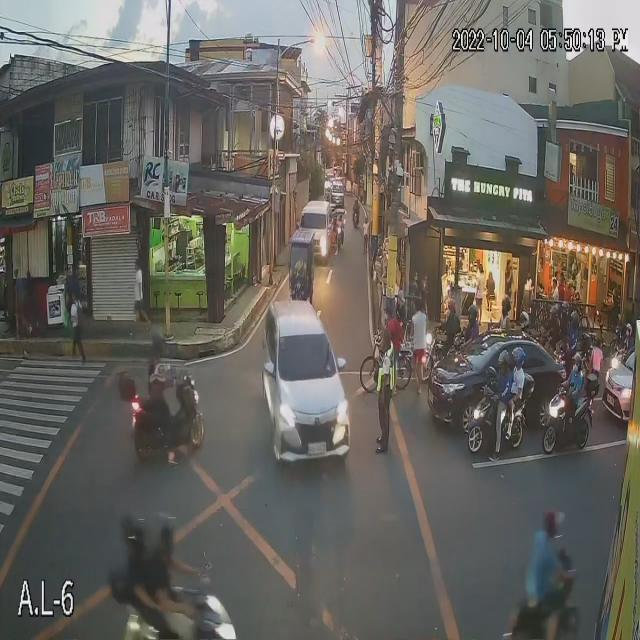helmet: (147, 511, 182, 551), (117, 512, 150, 551), (149, 328, 173, 361), (497, 350, 512, 379), (511, 343, 526, 368), (559, 300, 571, 325), (498, 297, 512, 317), (463, 305, 478, 323), (547, 306, 562, 323), (445, 299, 459, 317), (518, 310, 532, 328), (569, 310, 581, 329), (572, 353, 582, 375), (623, 322, 634, 340)
motorcycle: (119, 373, 204, 462), (118, 584, 240, 640), (466, 383, 532, 461), (539, 384, 600, 458), (417, 327, 454, 378), (607, 342, 633, 372), (351, 208, 362, 231)
rider: (146, 512, 190, 607), (108, 512, 154, 598), (141, 330, 181, 427), (511, 342, 532, 407), (564, 345, 586, 403), (492, 345, 511, 407), (491, 294, 519, 331), (461, 305, 482, 344), (440, 299, 458, 343), (564, 308, 586, 343), (621, 317, 636, 358), (547, 300, 561, 343), (558, 298, 574, 329), (513, 309, 532, 334), (352, 195, 360, 214)
